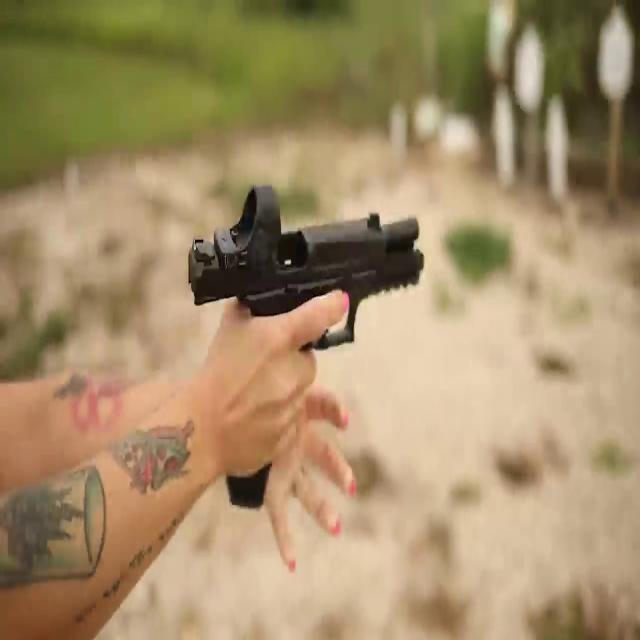Handgun: (185, 179, 454, 526)
